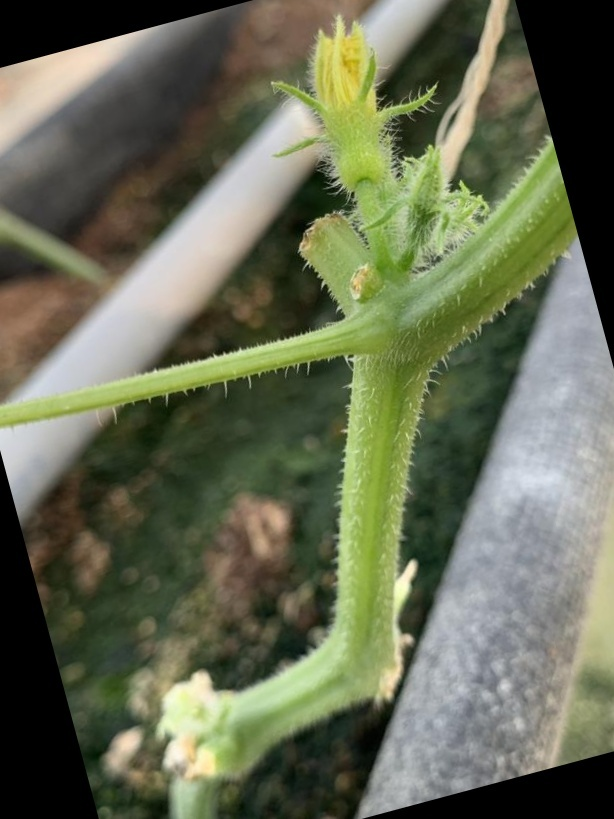bud: (276, 6, 421, 205)
